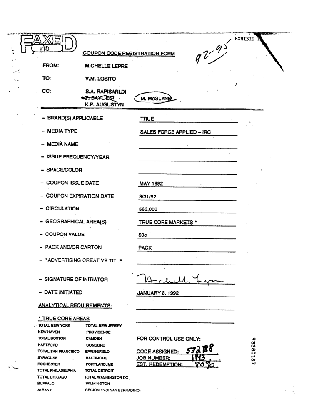textline: (136, 218, 238, 227), (136, 231, 238, 240), (136, 244, 238, 253), (136, 257, 238, 266), (135, 276, 237, 285), (134, 315, 236, 324), (138, 115, 239, 124), (138, 127, 239, 136), (138, 166, 239, 175), (138, 179, 239, 188), (138, 192, 239, 201), (138, 205, 239, 214), (135, 302, 236, 311), (135, 289, 237, 297), (138, 141, 239, 149), (138, 154, 239, 162), (134, 348, 219, 355), (135, 354, 220, 361), (135, 361, 220, 368)
